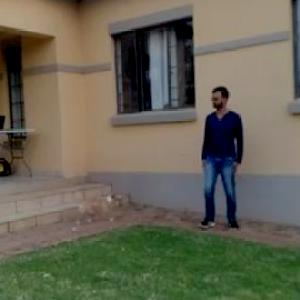follow: (196, 82, 246, 232)
